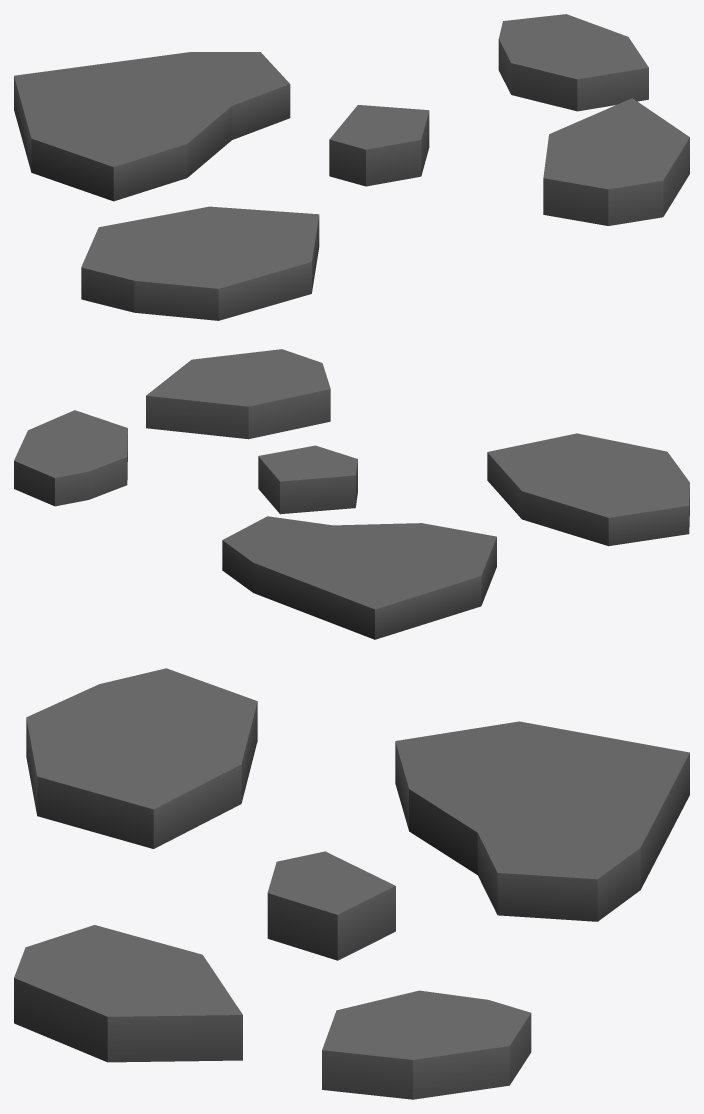
The model's file is path_rocks.glb.
3 views of the same model, one above another, from view 1: azimuth 30°, elevation 25°; view 2: azimuth 150°, elevation 25°; view 3: azimuth 270°, elevation 25° (orthographic). The views are drawn at different scales.
Parts seen in each view (by area): view 1: Plane.002, Plane.003, Plane, Plane.004, Plane.001; view 2: Plane.002, Plane.003, Plane, Plane.004, Plane.001; view 3: Plane.002, Plane.003, Plane, Plane.004, Plane.001.
Part boxes in pixels (box(x1,y1,x2,y2)): Plane.002: box(14, 52, 290, 201); Plane.003: box(81, 206, 319, 320); Plane: box(543, 98, 689, 225); Plane.004: box(498, 14, 648, 111); Plane.001: box(329, 105, 429, 186); Plane.002: box(222, 516, 496, 639); Plane.003: box(487, 433, 689, 546); Plane: box(146, 349, 330, 439); Plane.004: box(14, 410, 127, 506); Plane.001: box(258, 445, 357, 514); Plane.002: box(395, 721, 689, 921); Plane.003: box(26, 668, 257, 848); Plane: box(14, 925, 242, 1062); Plane.004: box(322, 990, 531, 1099); Plane.001: box(267, 851, 395, 960).
Size of the model in its own units: 1.63 by 0.0889 by 1.19.
1 material, 1 textured.
